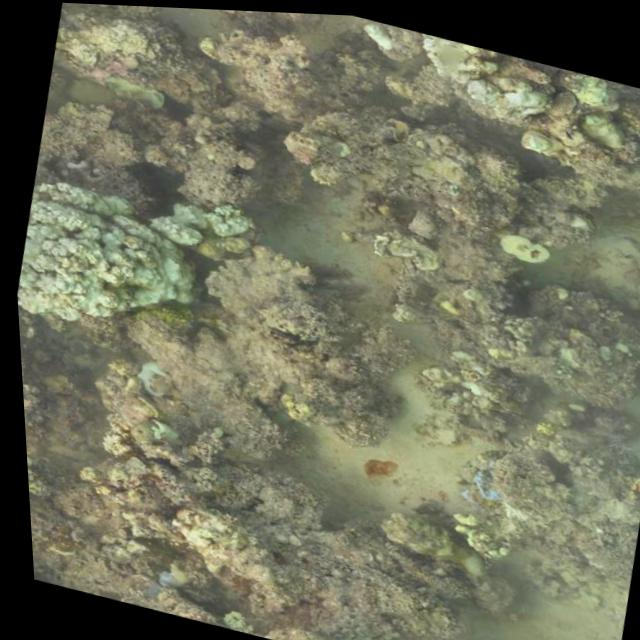Bleached Coral: (521, 619, 614, 640)
